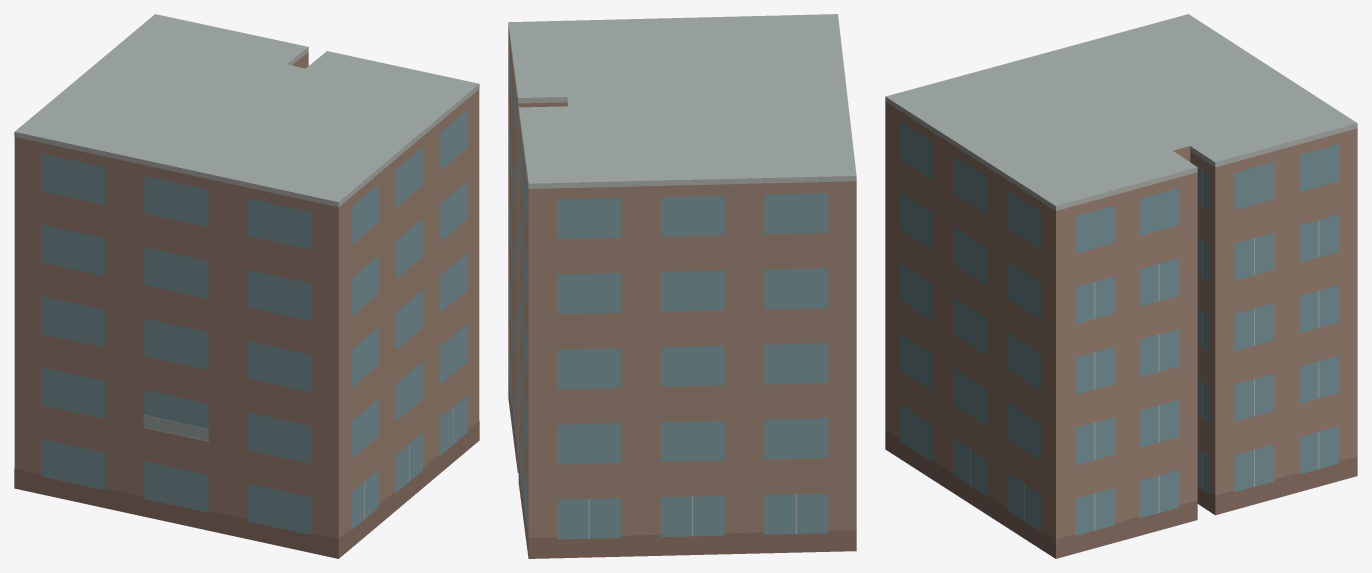
File: survey-upis-33005118.glb
The picture shows the model from 3 angles, left to right: view 1: azimuth 30°, elevation 25°; view 2: azimuth 150°, elevation 25°; view 3: azimuth 270°, elevation 25°; orthographic projection. The views are drawn at different scales.
Parts seen in each view (by area): view 1: survey-upis-33005118.tmp; view 2: survey-upis-33005118.tmp; view 3: survey-upis-33005118.tmp.
Boxes of the visible parts, box(x1,y1,x2,y2) form: survey-upis-33005118.tmp: box(14, 14, 479, 558); survey-upis-33005118.tmp: box(508, 14, 856, 558); survey-upis-33005118.tmp: box(885, 14, 1357, 558).
Size of the model in its own units: 19.98 by 17.1 by 20.76.
